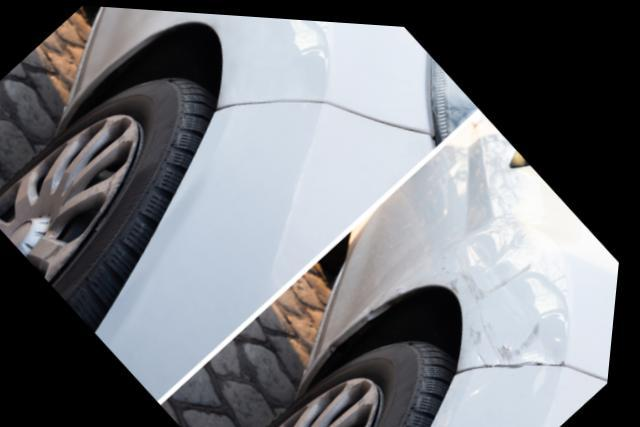scratch: (452, 240, 573, 361)
